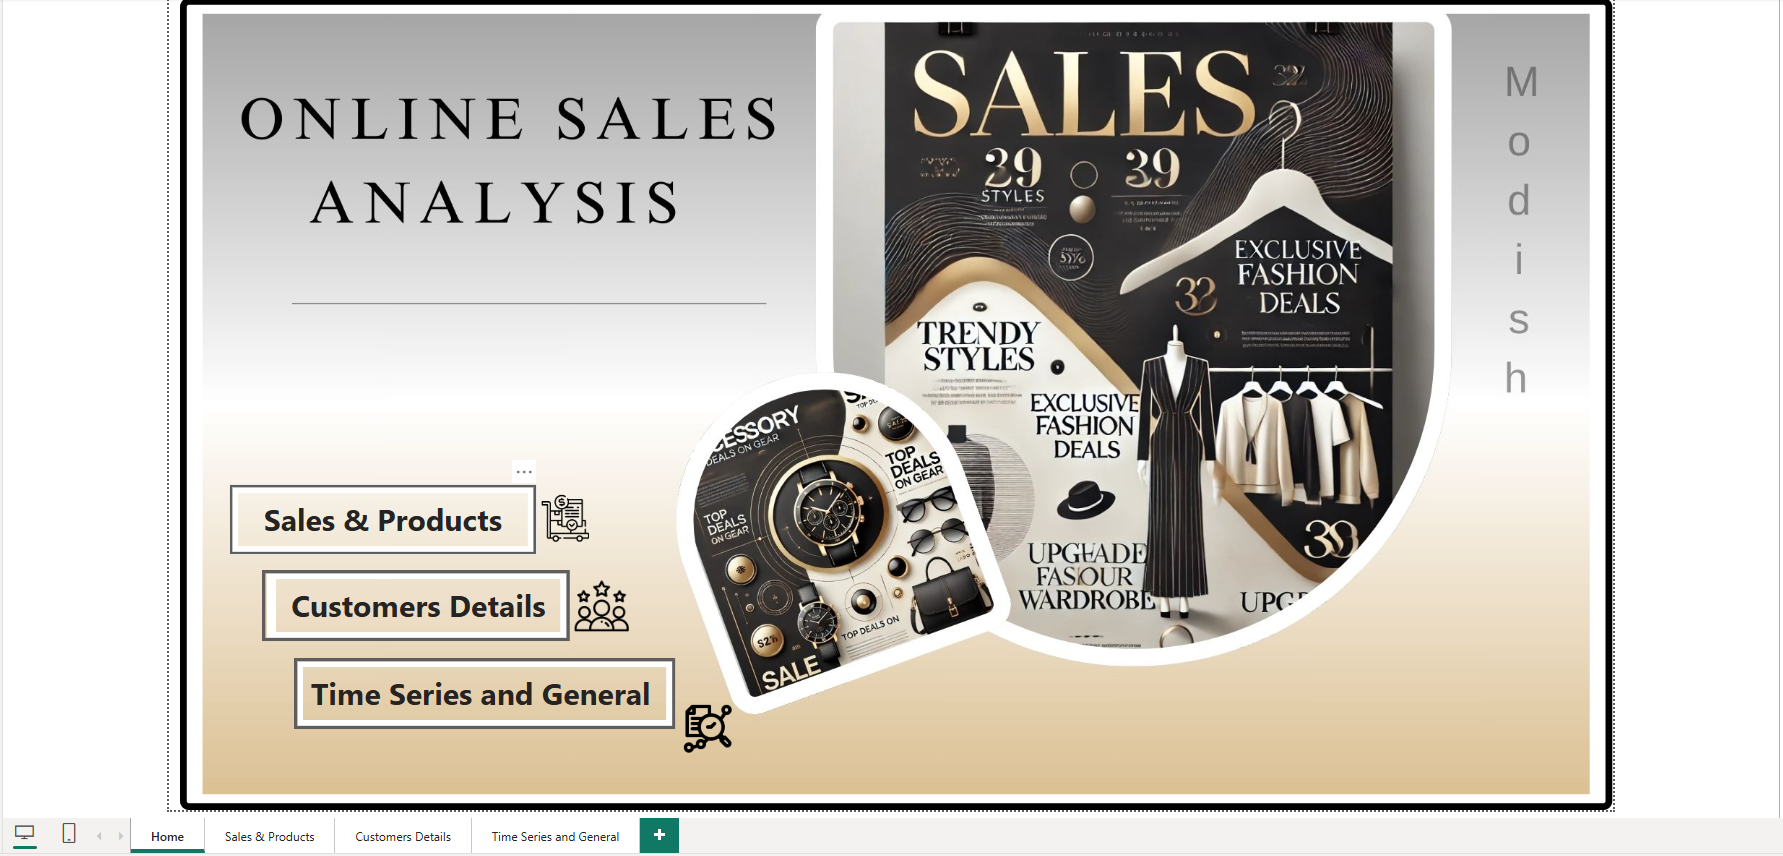

The page's visual inventory and layout, read from the dashboard file:
{"tool":"powerbi","page":{"name":"Home","canvas":[1280,720],"ordinal":0},"visuals":[{"type":"image","box":[9.7,0,1270.3,719.8],"z":0},{"type":"textbox","box":[53,430.8,272.9,63.2],"z":1000},{"type":"textbox","box":[86.8,507.5,268.4,63.2],"z":2000},{"type":"textbox","box":[110.5,585.3,338.3,63.2],"z":3000},{"type":"actionButton","box":[53,430.8,272.9,63.2],"z":4000},{"type":"actionButton","box":[82.3,507.5,272.9,63.2],"z":5000},{"type":"actionButton","box":[110.5,585.3,338.3,63.2],"z":6000},{"type":"image","box":[448.8,619.1,57.5,57.5],"z":7000},{"type":"image","box":[325.8,435.7,51.6,51.6],"z":8000},{"type":"image","box":[355,507.7,58.4,62.2],"z":9000}]}

Visuals, with their boxes in screenshot pixels (x1, y1, x2, y2):
image: box(173, 0, 1607, 803)
textbox: box(222, 477, 530, 548)
textbox: box(260, 564, 563, 635)
textbox: box(287, 651, 669, 723)
actionButton: box(222, 477, 530, 548)
actionButton: box(255, 564, 563, 635)
actionButton: box(287, 651, 669, 723)
image: box(669, 689, 734, 754)
image: box(530, 482, 588, 541)
image: box(563, 564, 629, 634)
